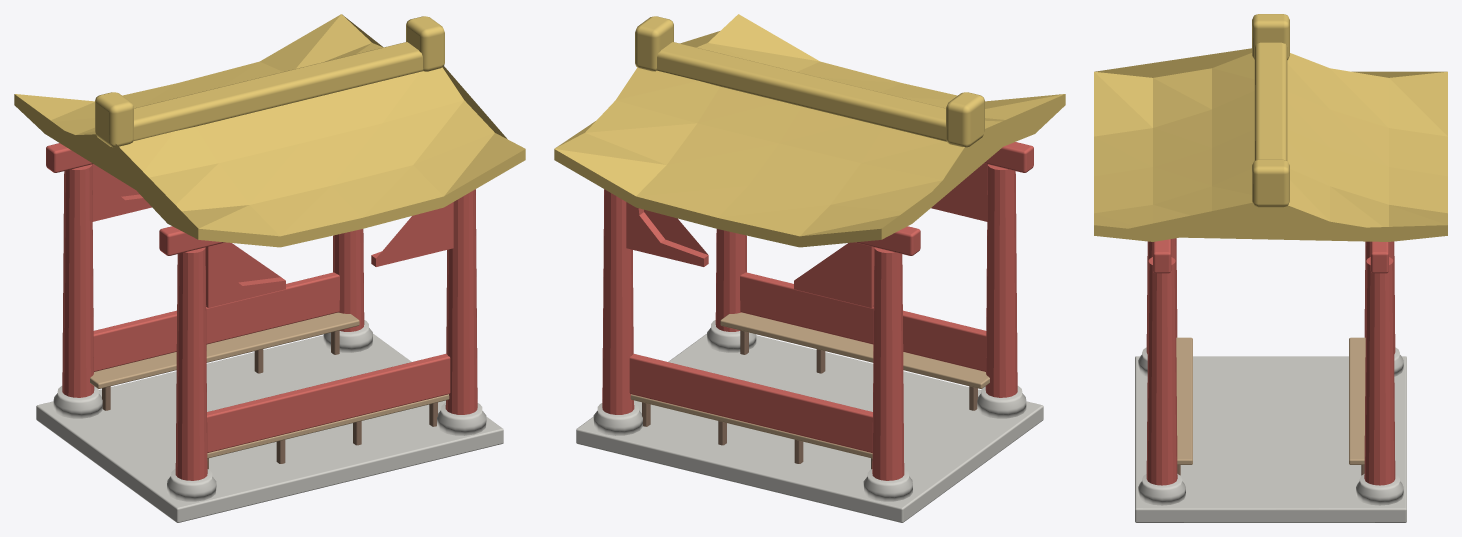
The model's file is covered-walkway-bay.glb.
The picture shows the model from 3 angles, left to right: view 1: azimuth 30°, elevation 25°; view 2: azimuth 150°, elevation 25°; view 3: azimuth 270°, elevation 25°; orthographic projection. The views are drawn at different scales.
Visible parts, largest first — view 1: covered-walkway-bay; view 2: covered-walkway-bay; view 3: covered-walkway-bay.
Part boxes in pixels (x1,y1,x2,y2): covered-walkway-bay: (14,14,525,522); covered-walkway-bay: (554,14,1065,522); covered-walkway-bay: (1094,14,1447,522).
Size of the model in its own units: 4.1 by 4.34 by 3.9.
